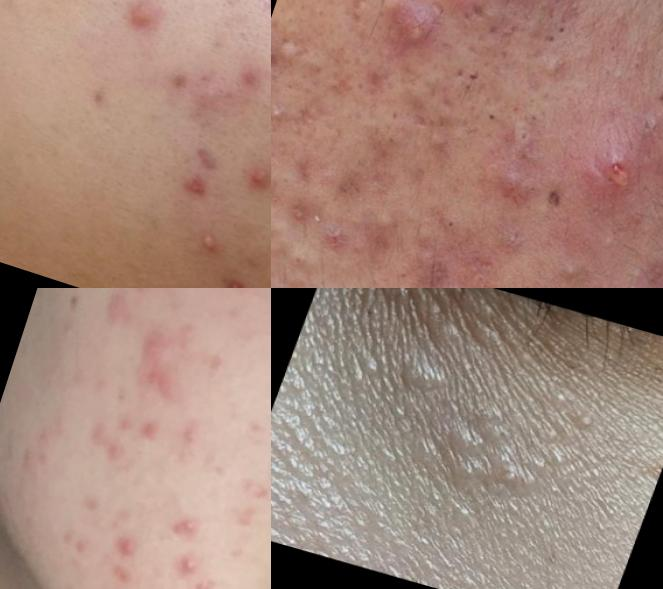blackhead: (504, 98, 565, 169), (451, 1, 530, 55), (537, 7, 582, 59), (451, 56, 491, 106), (377, 120, 415, 170), (472, 97, 509, 147), (430, 201, 468, 245)
milium: (491, 460, 548, 505), (568, 403, 617, 452)
papular: (576, 135, 657, 207), (377, 1, 450, 75), (123, 325, 186, 406), (168, 137, 233, 210), (14, 416, 67, 481), (79, 417, 140, 473), (226, 473, 272, 536), (115, 1, 167, 49), (83, 559, 159, 589), (112, 522, 155, 572), (226, 56, 272, 100), (192, 340, 240, 382), (239, 152, 272, 202), (174, 420, 214, 461), (57, 523, 98, 563), (134, 411, 171, 448), (214, 275, 263, 289)
purulent: (170, 512, 216, 547), (193, 225, 231, 265), (171, 545, 208, 582), (183, 571, 217, 589)
syringoma: (379, 289, 560, 387), (444, 403, 559, 476), (390, 352, 475, 412)
whitehead: (356, 194, 409, 254), (275, 244, 328, 289), (544, 253, 595, 289), (272, 94, 290, 135), (272, 206, 286, 258)
